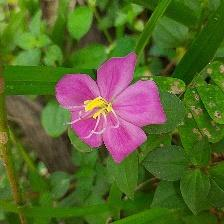malabar melastome: (54, 53, 171, 168)
